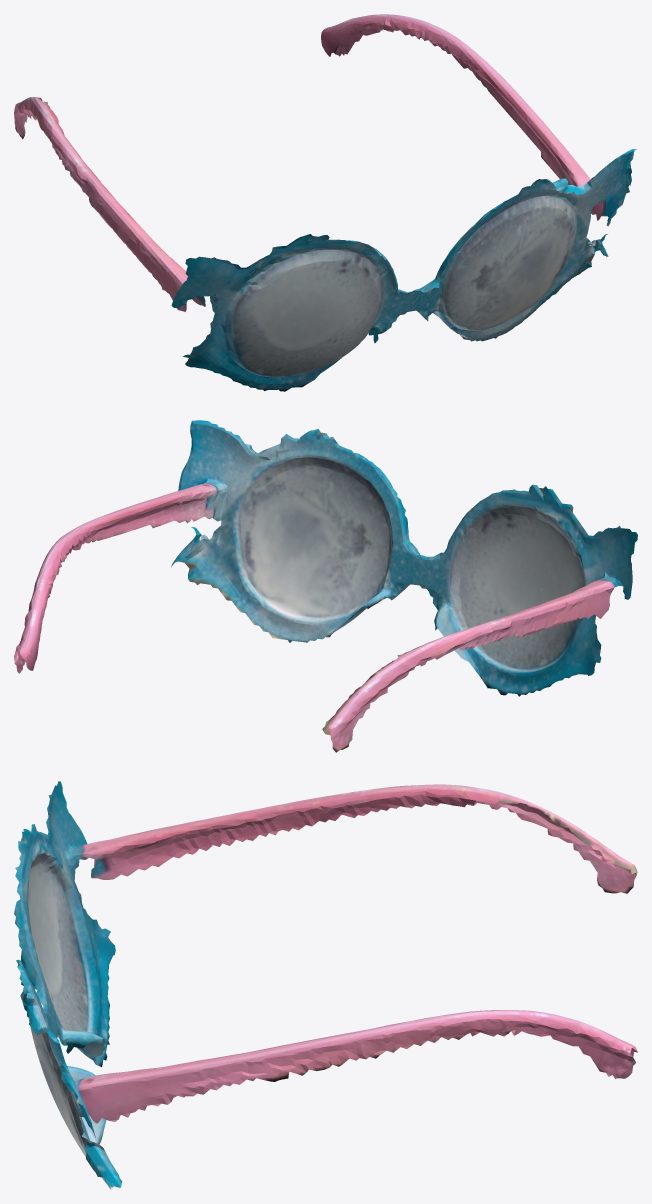
Rendered from scan_align.obj.
3 renders of one model, top to bottom at view 1: azimuth 30°, elevation 25°; view 2: azimuth 150°, elevation 25°; view 3: azimuth 270°, elevation 25°, orthographic. The views are drawn at different scales.
Size of the model in its own units: 0.1424 by 0.0556 by 0.141.
1 material, 1 textured.
